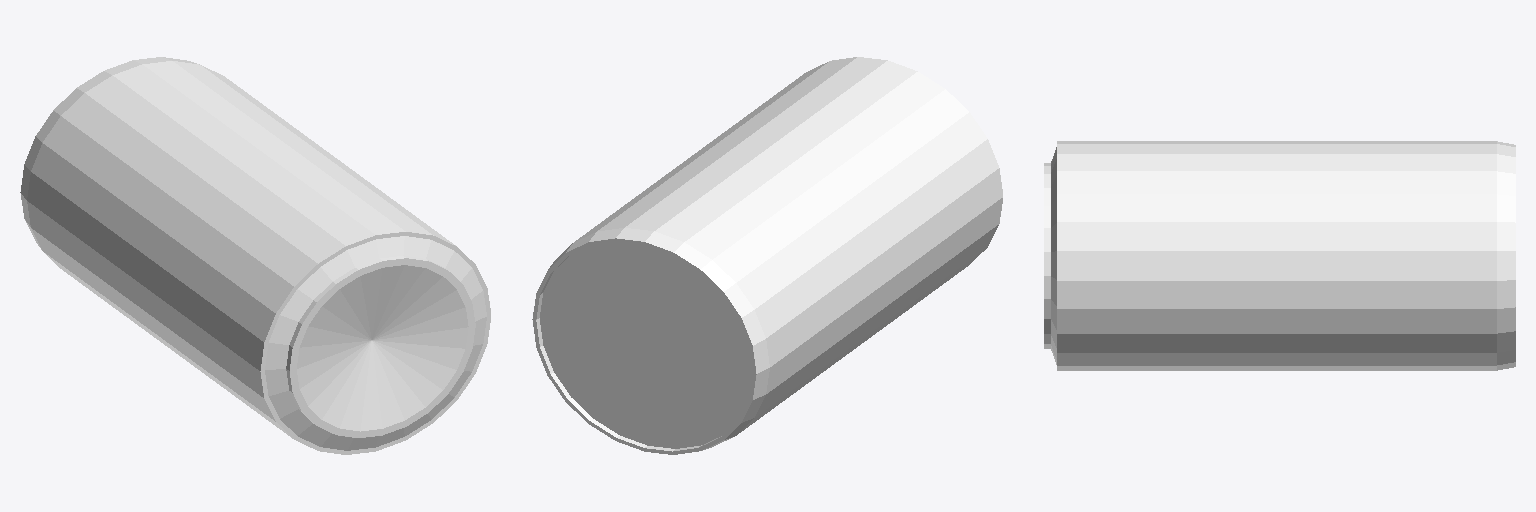
robot.urdf — textured:
<?xml version="1.0" ?>
<robot name="textured">
  <link name="base_link">
    <contact>
      <lateral_friction value="1.0"/>
      <inertia_scaling value="3.0"/>
    </contact>
    <inertial>
      <origin rpy="0 0 0" xyz="-0.01 0 0.02"/>
       <mass value=".1"/>
       <inertia ixx="1" ixy="0" ixz="0" iyy="1" iyz="0" izz="1"/>
    </inertial>
    <visual>
      <origin rpy="0 0 0" xyz="0 0 0"/>
      <geometry>
        <mesh filename="model.obj" scale=".95 .95 0.85"/>
      </geometry>
      <material name="white">
        <color rgba="1 1 1 1"/>
      </material>
    </visual>
    <collision>
      <origin rpy="0 0 0" xyz="0 0 0"/>
      <geometry>
        <mesh filename="collision_model/model_vhacd_0_of_12.obj" scale=".95 .95 0.85"/>
      </geometry>
    </collision>
    <collision>
      <origin rpy="0 0 0" xyz="0 0 0"/>
      <geometry>
        <mesh filename="collision_model/model_vhacd_1_of_12.obj" scale=".95 .95 0.85"/>
      </geometry>
    </collision>
    <collision>
      <origin rpy="0 0 0" xyz="0 0 0"/>
      <geometry>
        <mesh filename="collision_model/model_vhacd_2_of_12.obj" scale=".95 .95 0.85"/>
      </geometry>
    </collision>
    <collision>
      <origin rpy="0 0 0" xyz="0 0 0"/>
      <geometry>
        <mesh filename="collision_model/model_vhacd_3_of_12.obj" scale=".95 .95 0.85"/>
      </geometry>
    </collision>
    <collision>
      <origin rpy="0 0 0" xyz="0 0 0"/>
      <geometry>
        <mesh filename="collision_model/model_vhacd_4_of_12.obj" scale=".95 .95 0.85"/>
      </geometry>
    </collision>
    <collision>
      <origin rpy="0 0 0" xyz="0 0 0"/>
      <geometry>
        <mesh filename="collision_model/model_vhacd_5_of_12.obj" scale=".95 .95 0.85"/>
      </geometry>
    </collision>
    <collision>
      <origin rpy="0 0 0" xyz="0 0 0"/>
      <geometry>
        <mesh filename="collision_model/model_vhacd_6_of_12.obj" scale=".95 .95 0.85"/>
      </geometry>
    </collision>
    <collision>
      <origin rpy="0 0 0" xyz="0 0 0"/>
      <geometry>
        <mesh filename="collision_model/model_vhacd_7_of_12.obj" scale=".95 .95 0.85"/>
      </geometry>
    </collision>
    <collision>
      <origin rpy="0 0 0" xyz="0 0 0"/>
      <geometry>
        <mesh filename="collision_model/model_vhacd_8_of_12.obj" scale=".95 .95 0.85"/>
      </geometry>
    </collision>
    <collision>
      <origin rpy="0 0 0" xyz="0 0 0"/>
      <geometry>
        <mesh filename="collision_model/model_vhacd_9_of_12.obj" scale=".95 .95 0.85"/>
      </geometry>
    </collision>
    <collision>
      <origin rpy="0 0 0" xyz="0 0 0"/>
      <geometry>
        <mesh filename="collision_model/model_vhacd_10_of_12.obj" scale=".95 .95 0.85"/>
      </geometry>
    </collision>
    <collision>
      <origin rpy="0 0 0" xyz="0 0 0"/>
      <geometry>
        <mesh filename="collision_model/model_vhacd_11_of_12.obj" scale=".95 .95 0.85"/>
      </geometry>
    </collision>
  </link>
</robot>

--- Facts derived from the render (not from the file) ---
Views: 3 orthographic renders of the robot side by side, from view 1: azimuth 30°, elevation 25°; view 2: azimuth 150°, elevation 25°; view 3: azimuth 270°, elevation 25°.
Model textured with 1 links and 0 joints (none), rooted at base_link, posed every joint at zero.
Links seen in each view (by area): view 1: base_link; view 2: base_link; view 3: base_link.
Link boxes in pixels (bbox=[...]): base_link: bbox=[20, 57, 490, 454]; base_link: bbox=[532, 57, 1002, 454]; base_link: bbox=[1044, 141, 1515, 370].
Bounding box of the posed robot: 0.4045 × 0.7584 × 0.3619 m (x, y, z).
1 mesh visuals loaded from 1 distinct referenced files (1 OBJ).